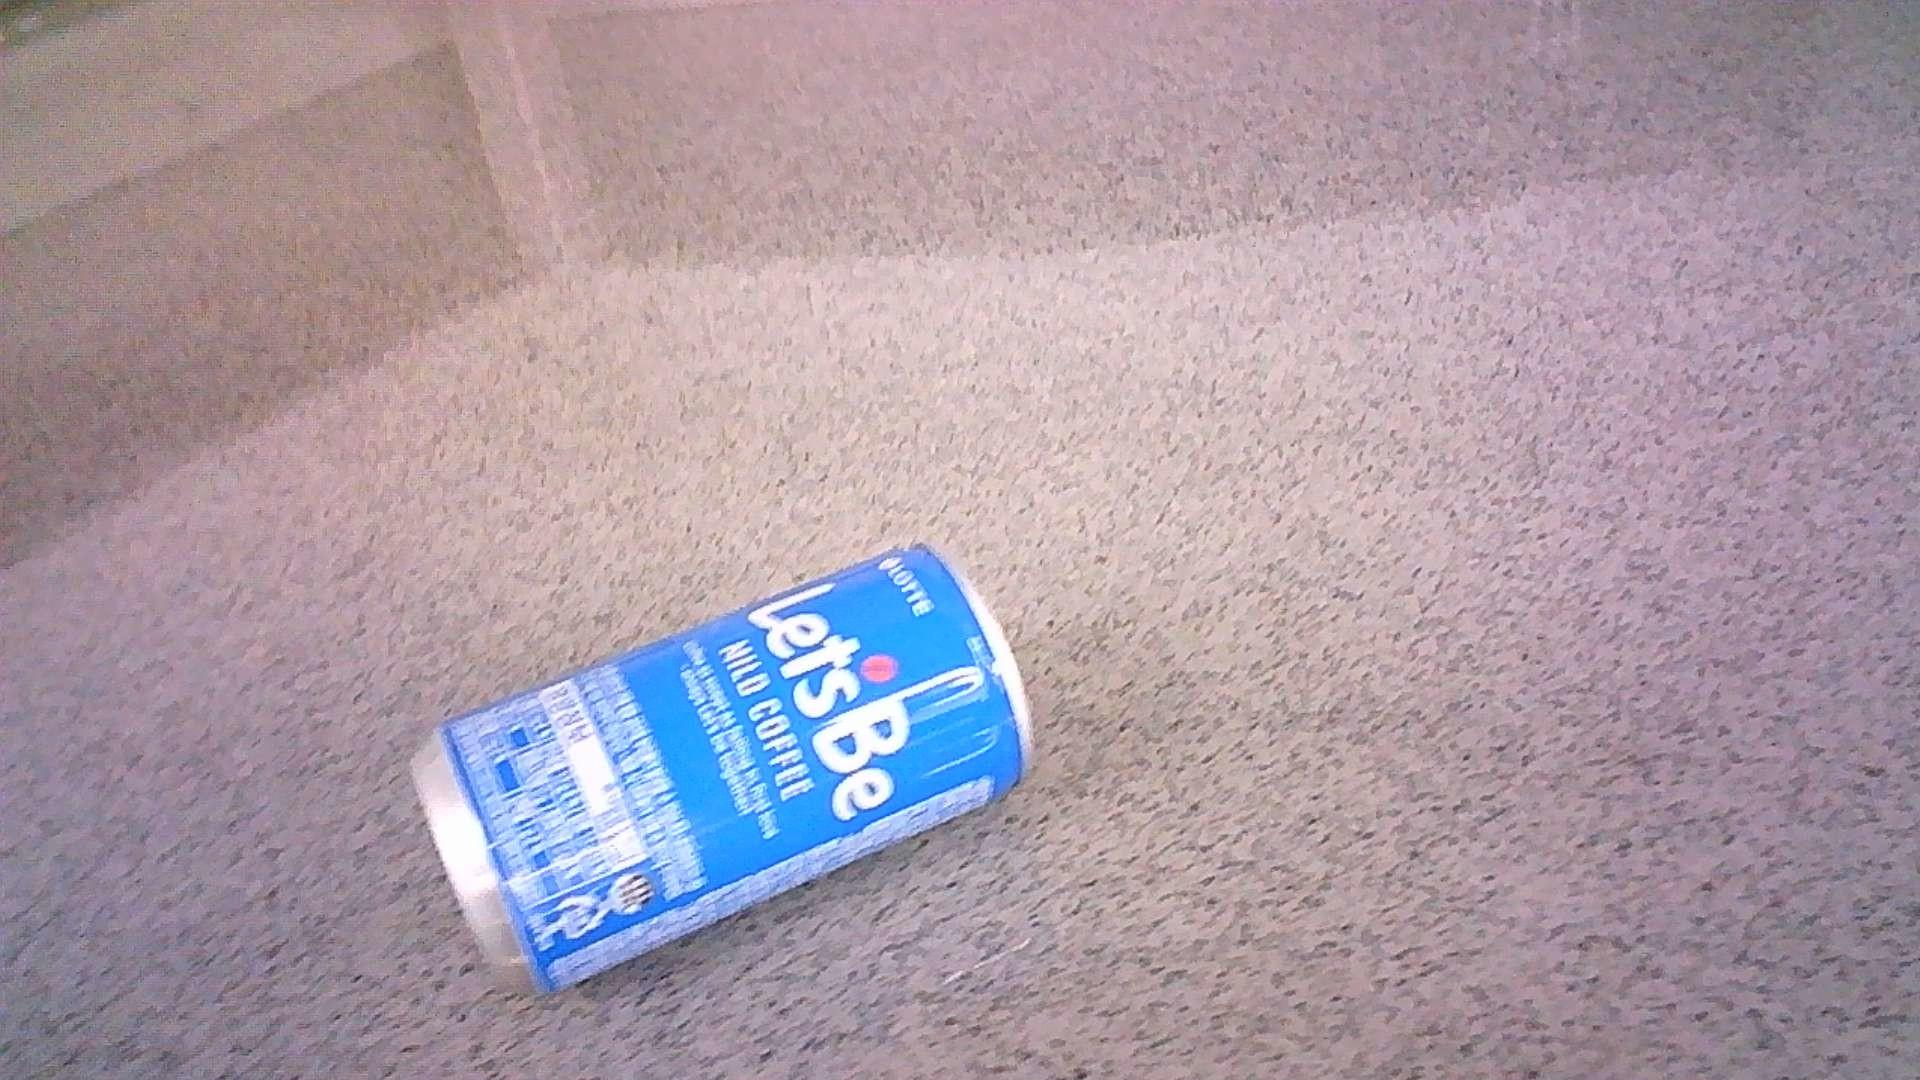letsbe: (413, 542, 1031, 998)
